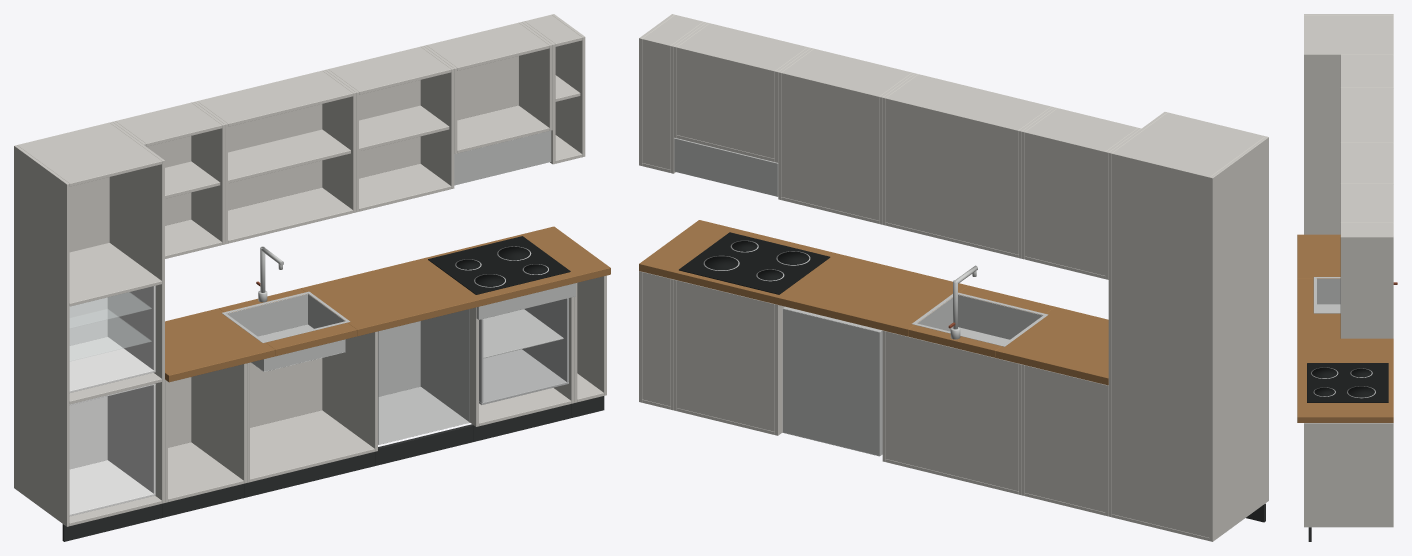
Rendered from kitchen_run_appliances_long_body.glb.
The picture shows the model from 3 angles, left to right: view 1: azimuth 30°, elevation 25°; view 2: azimuth 150°, elevation 25°; view 3: azimuth 270°, elevation 25°; orthographic projection. The views are drawn at different scales.
Parts seen in each view (by area): view 1: kitchen_run_appliances_long_body; view 2: kitchen_run_appliances_long_body; view 3: kitchen_run_appliances_long_body.
Part boxes in pixels (left/top/right/bottom): kitchen_run_appliances_long_body: left=14, top=14, right=610, bottom=541; kitchen_run_appliances_long_body: left=639, top=14, right=1268, bottom=541; kitchen_run_appliances_long_body: left=1297, top=14, right=1397, bottom=541.
Size of the model in its own units: 3.3 by 2.1 by 0.625.
